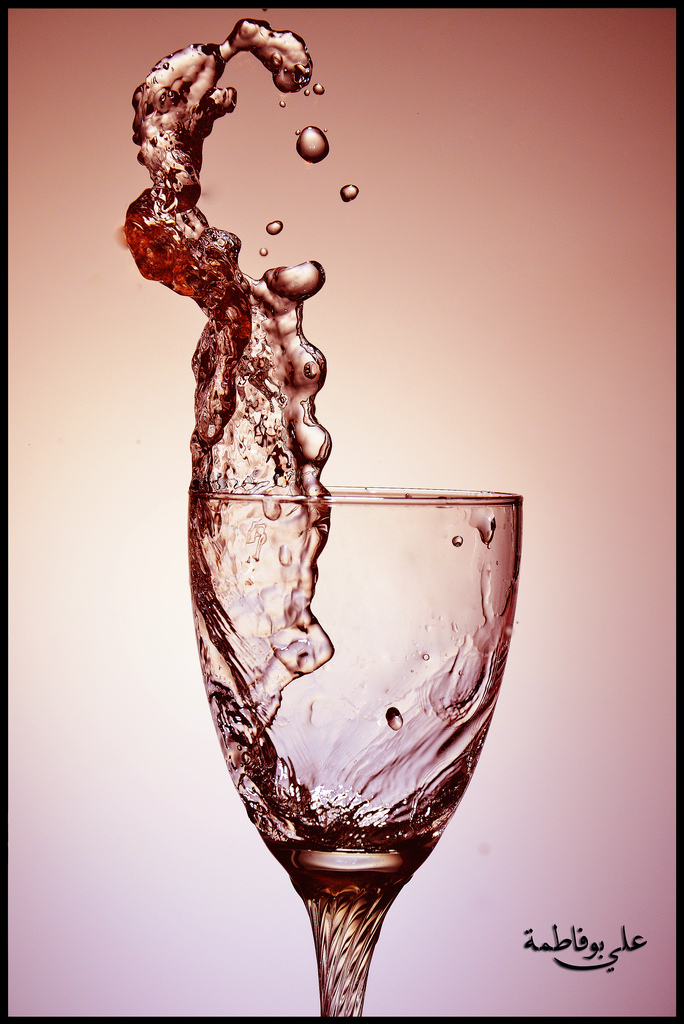glass of water: (196, 486, 500, 1024)
